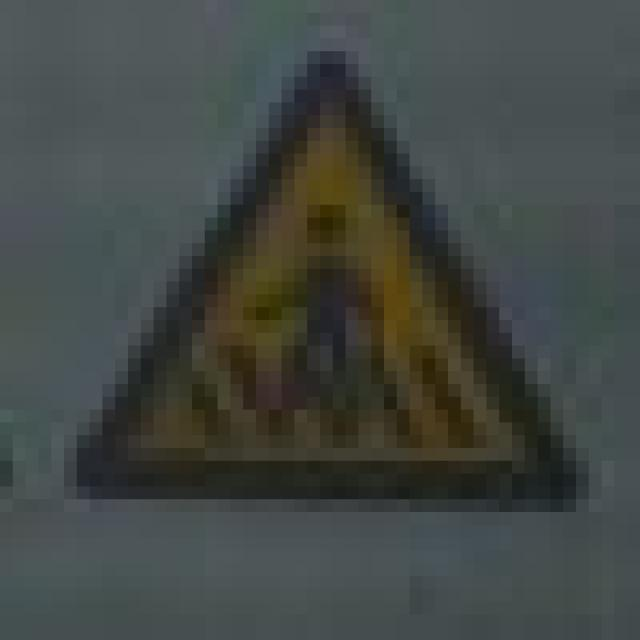PEDESTRIAN_CROSSING: (51, 39, 589, 486)
